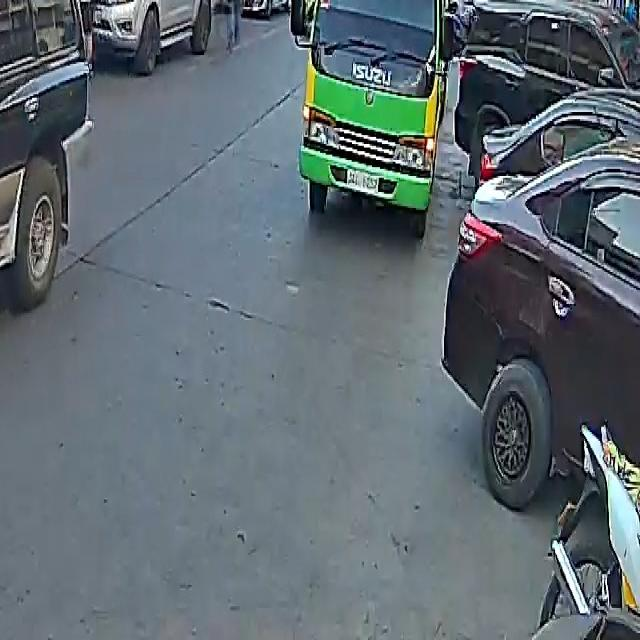car: (444, 57, 640, 533), (0, 0, 104, 466), (437, 0, 639, 217), (86, 0, 221, 66)
